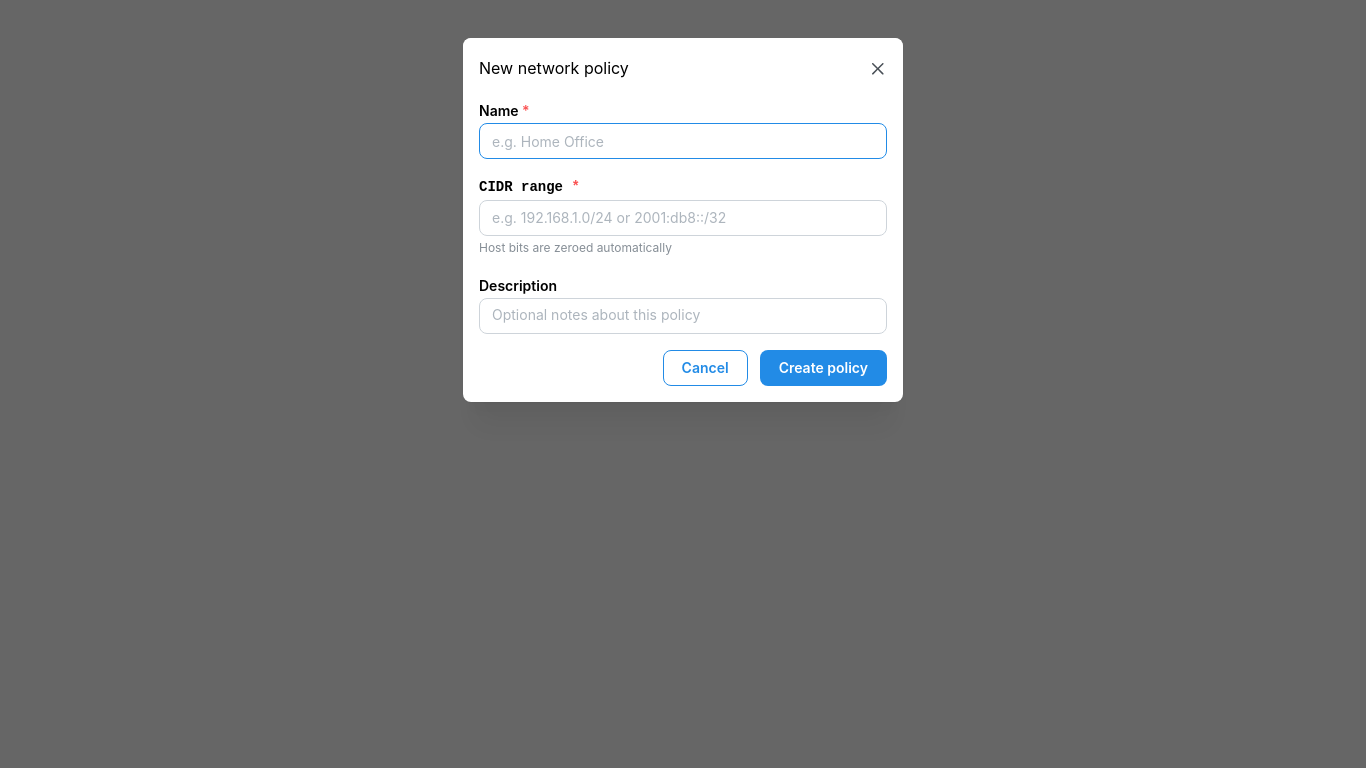
Test: CreateNetworkPolicyModal — CIDR validation › rejects a malformed CIDR
In the field labelled "Name *": (683, 141) [479, 123, 887, 159], type "Bad Net"
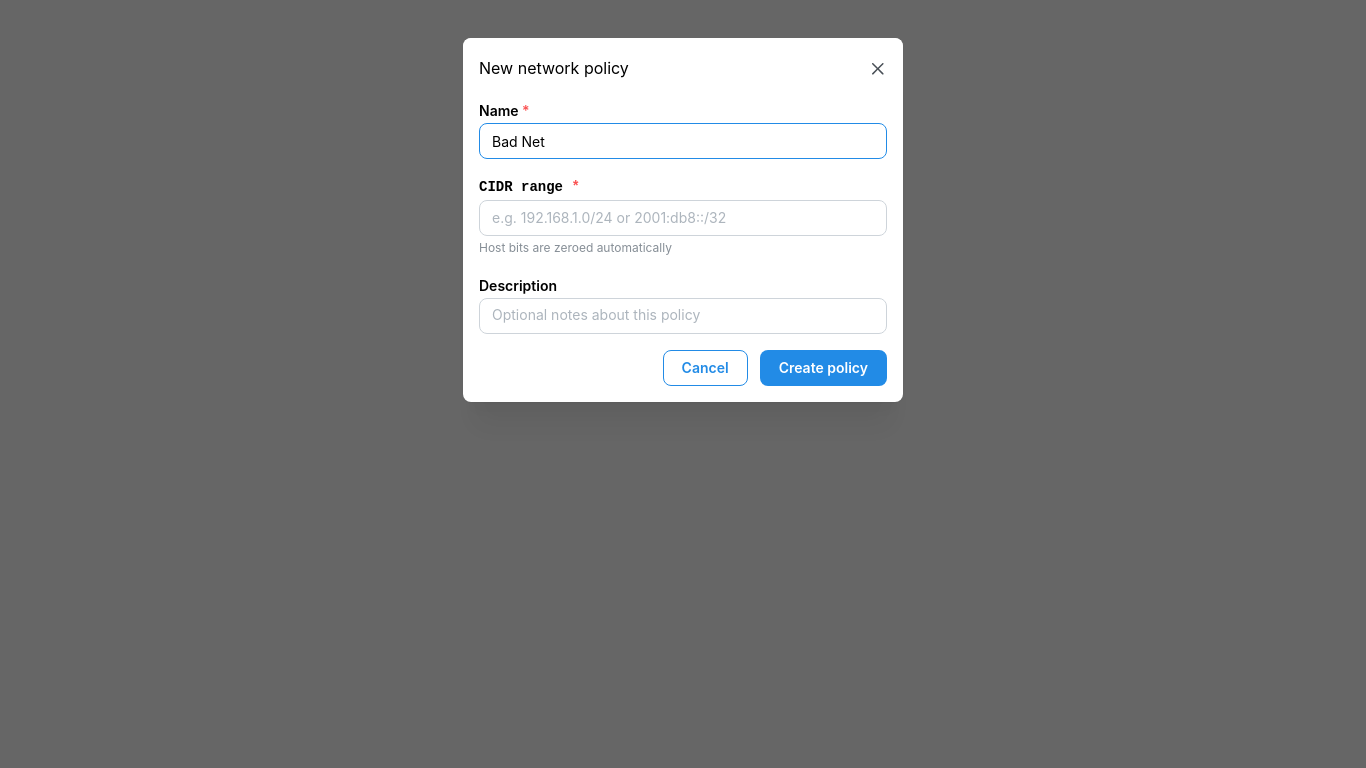
In the field labelled "CIDR range *": (683, 218) [479, 200, 887, 236], type "not-a-cidr"
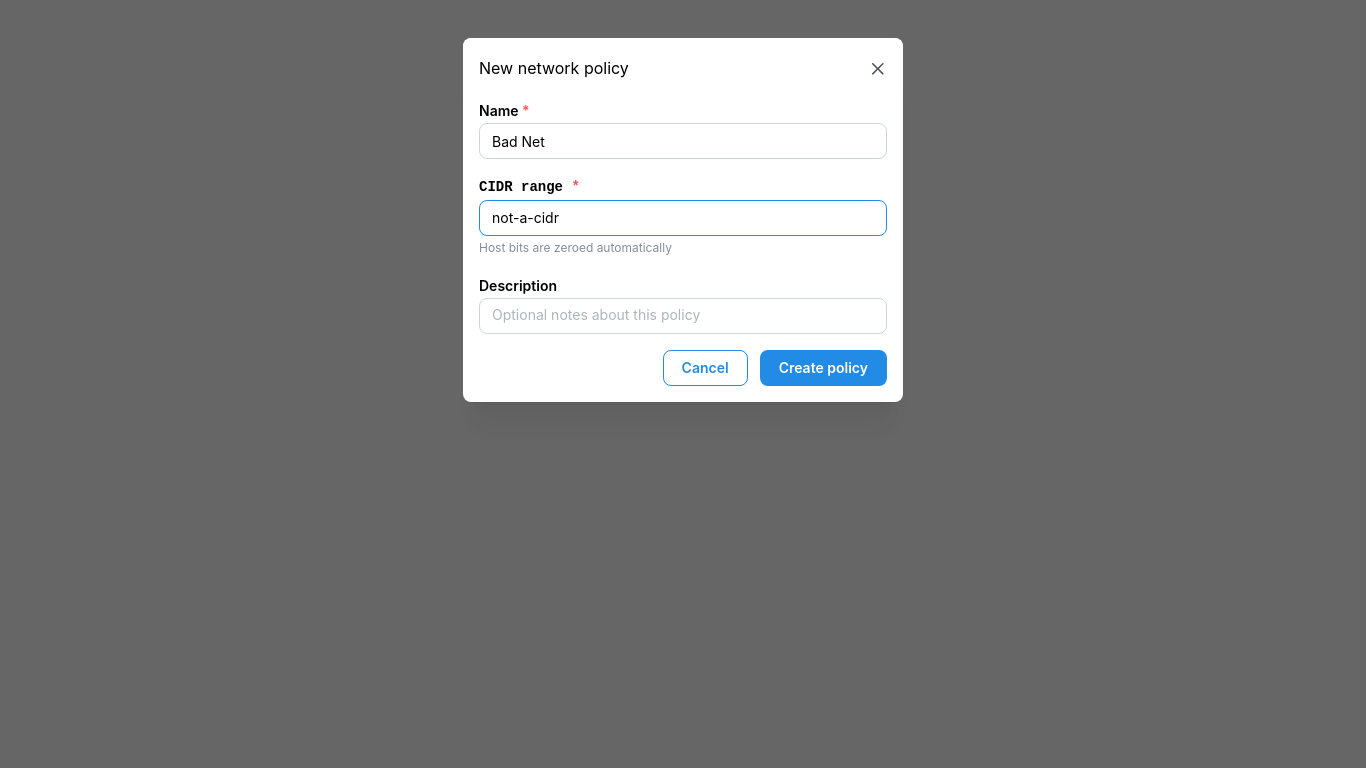
Click the button "Create policy": click(823, 368) [760, 350, 887, 386]
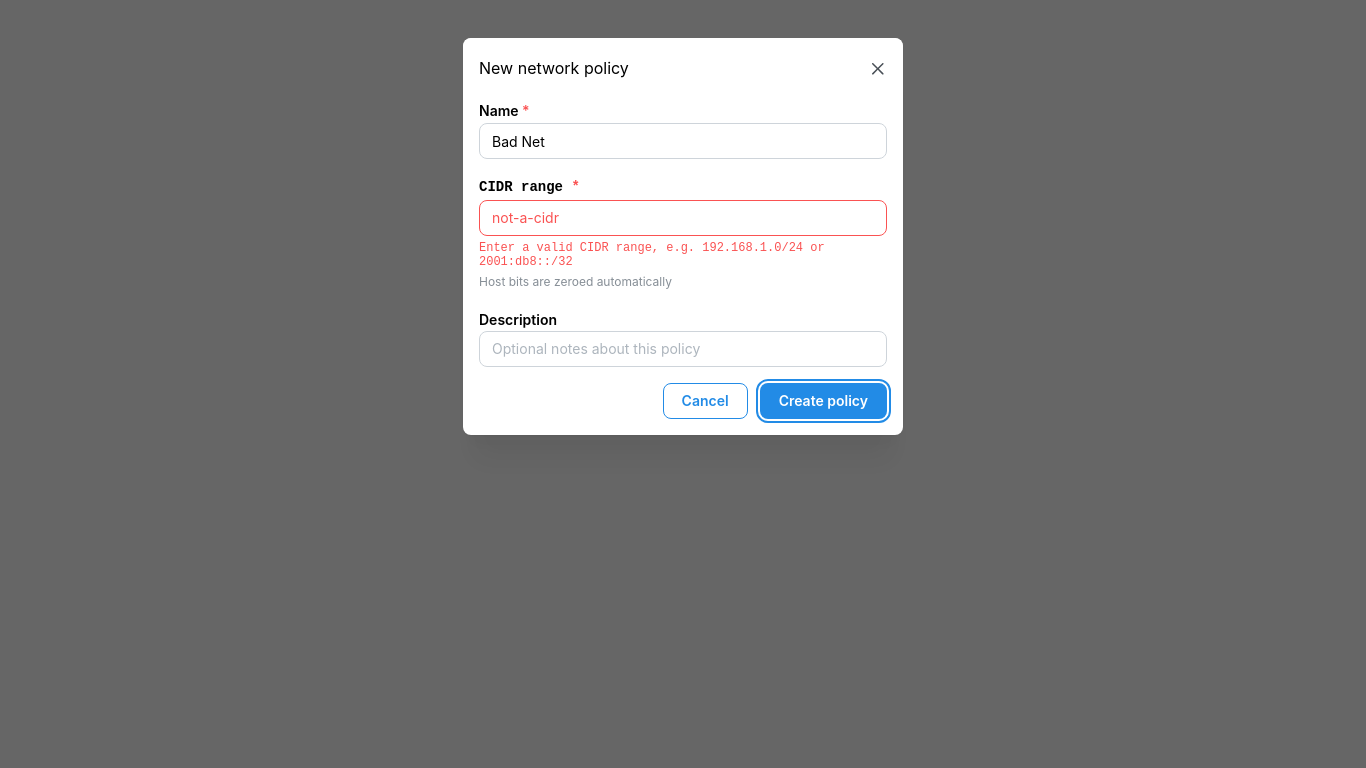
Check: the text "Enter a valid CIDR range" is shown, box [479, 241, 825, 269]
